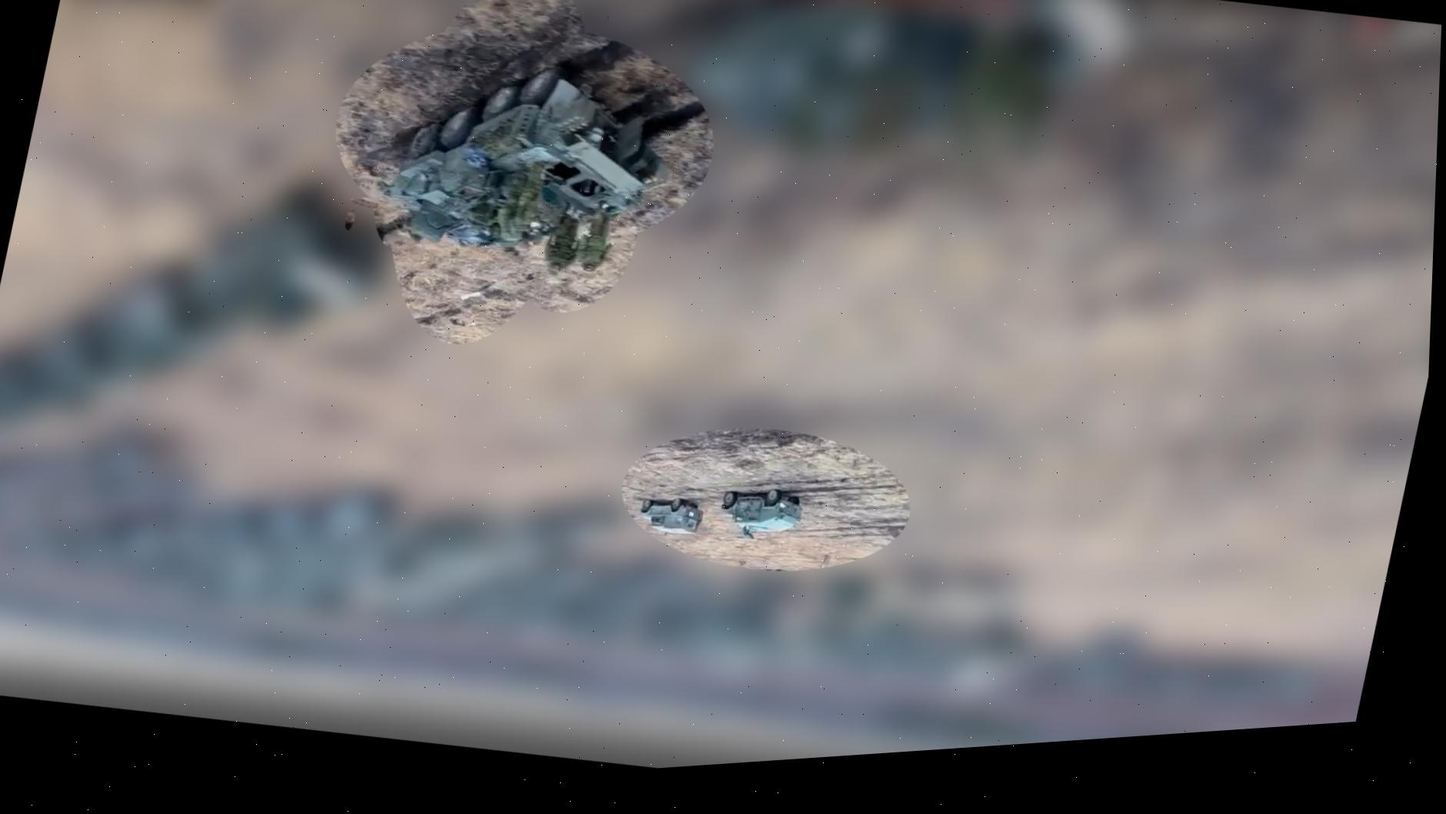armored_car: (373, 29, 688, 288), (711, 475, 805, 546), (631, 486, 709, 546)
